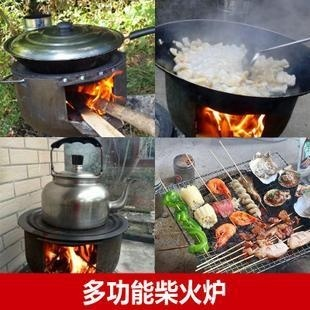fire: (72, 68, 120, 115), (202, 106, 267, 136), (44, 239, 95, 272)
